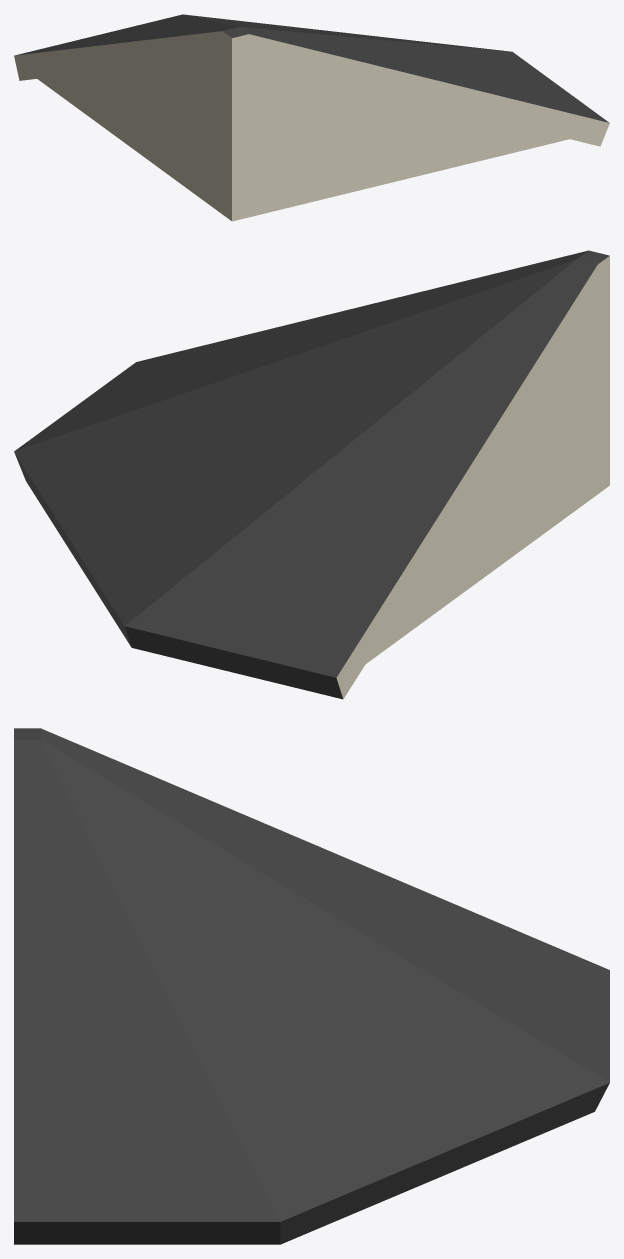
File: modularBuildings_045.fbx
3 views of the same model, one above another, from view 1: azimuth 30°, elevation 25°; view 2: azimuth 150°, elevation 25°; view 3: azimuth 270°, elevation 25° (orthographic). The views are drawn at different scales.
Visible parts, largest first — view 1: Brick.Brick, Roof.Mesh1 Group1 Model; view 2: Roof.Mesh1 Group1 Model, Brick.Brick; view 3: Roof.Mesh1 Group1 Model.
Part boxes in pixels (x1,y1,x2,y2): Brick.Brick: (14,31,609,221); Roof.Mesh1 Group1 Model: (14,14,609,122); Roof.Mesh1 Group1 Model: (14,250,609,699); Brick.Brick: (336,256,609,698); Roof.Mesh1 Group1 Model: (14,728,609,1244).
Size of the model in its own units: 1.12 by 0.5612 by 1.12.
